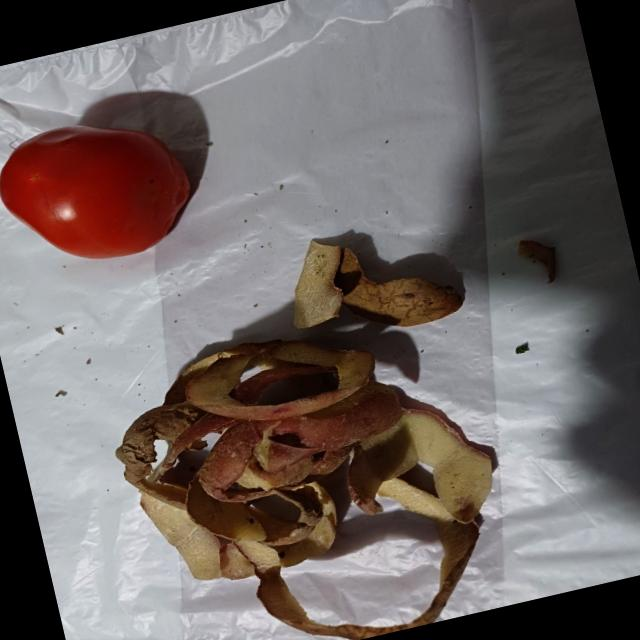organic: (80, 203, 534, 640)
